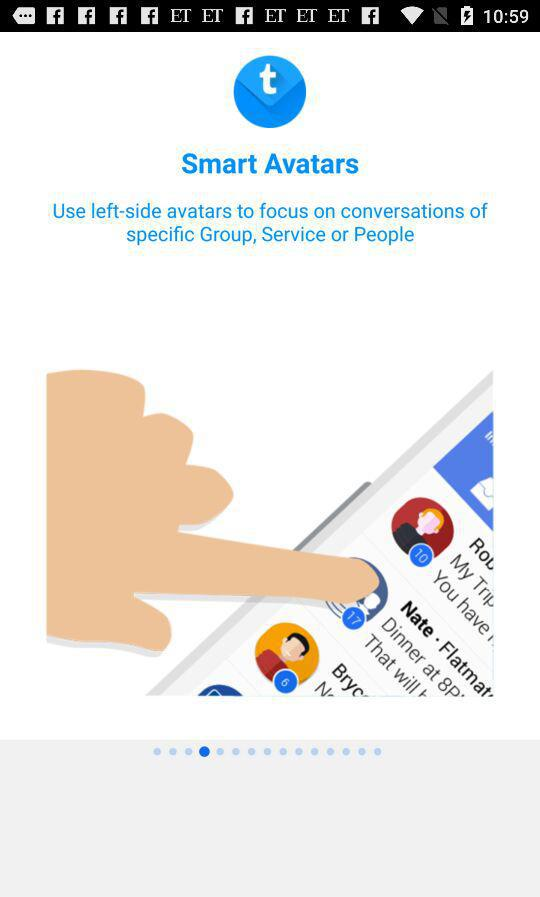Image: (47, 370, 494, 698), (234, 56, 307, 129)
PageIndicator: (152, 745, 384, 759)
Text: (54, 202, 489, 247), (182, 153, 359, 175)
UpperTaskBar: (1, 1, 540, 33)
